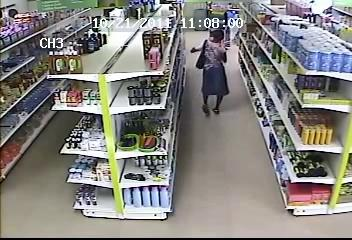Normal: (174, 5, 253, 145)
